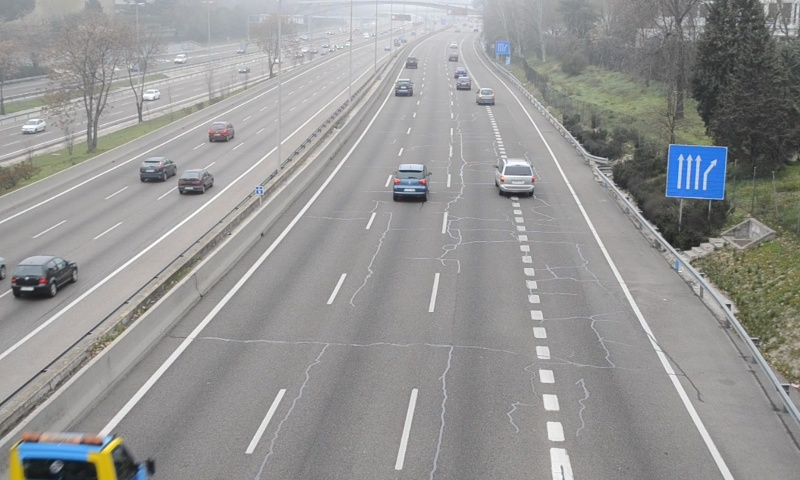car: (496, 158, 534, 193), (394, 164, 429, 200), (476, 86, 495, 105), (394, 78, 413, 97)
